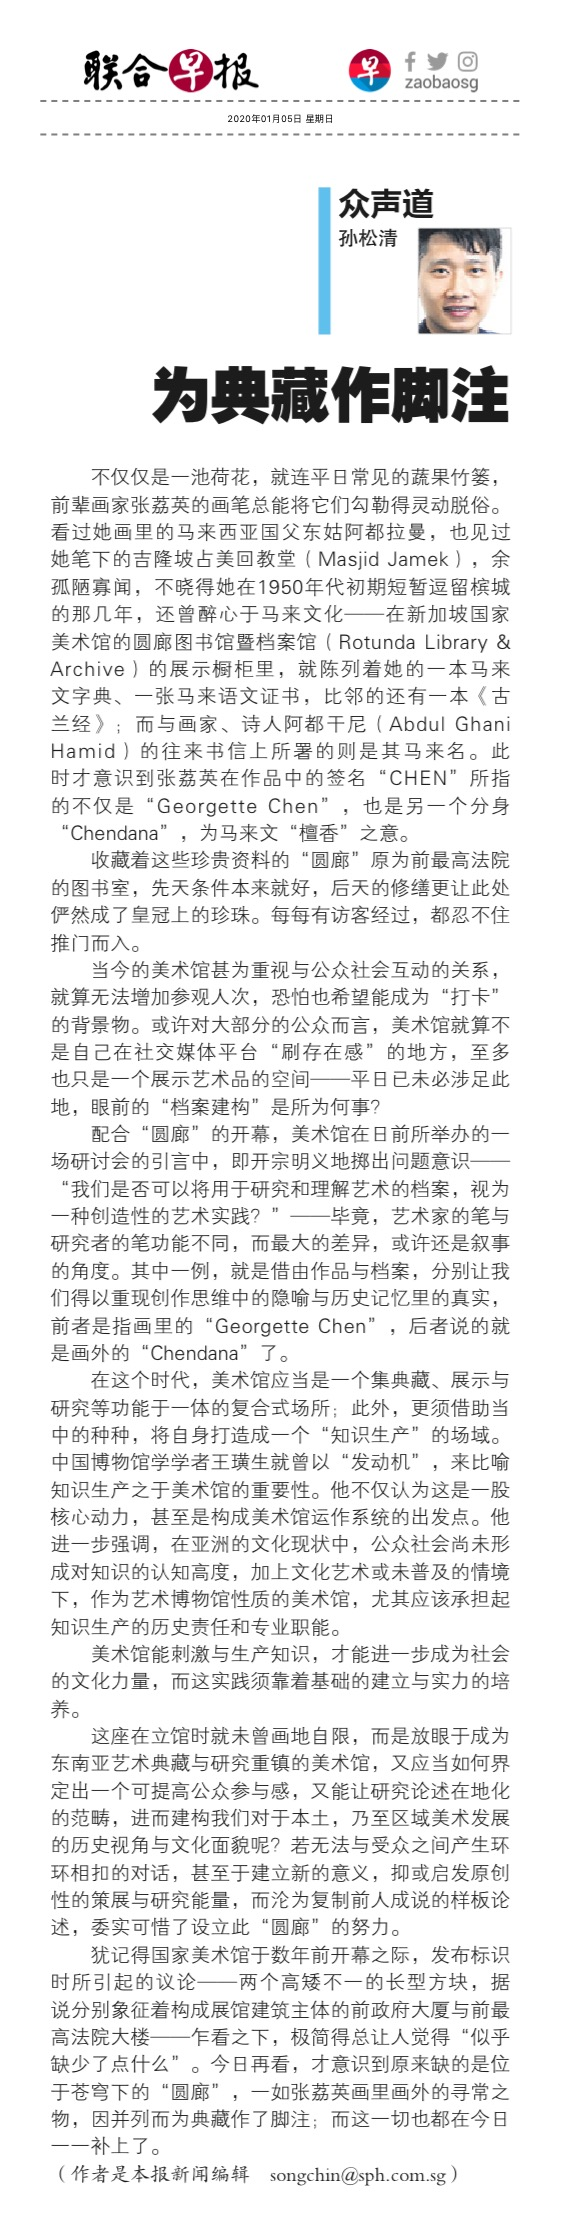heading: (144, 352, 525, 434)
